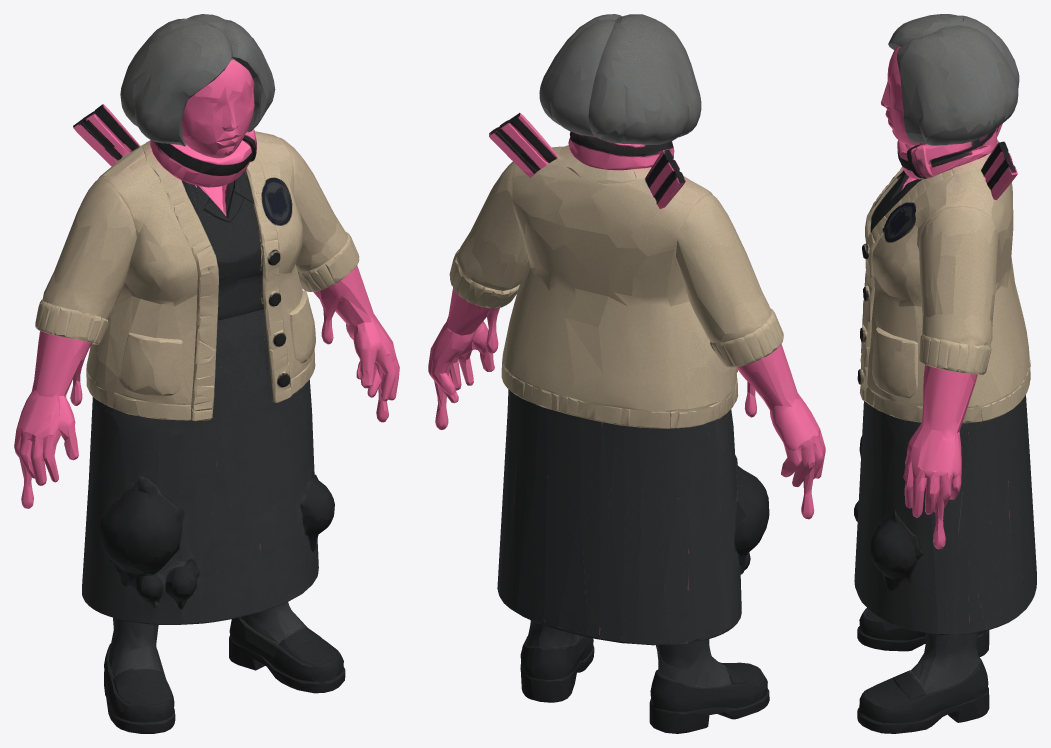
3 views of the same model, side by side, from view 1: azimuth 30°, elevation 25°; view 2: azimuth 150°, elevation 25°; view 3: azimuth 270°, elevation 25° (orthographic). The views are drawn at different scales.
Size of the model in its own units: 1.14 by 1.9 by 0.4782.
1 material, 1 textured.
